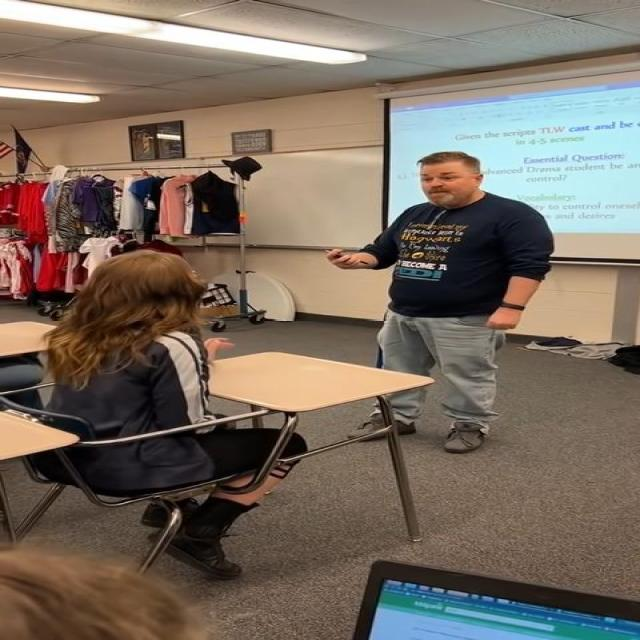NO-Mask: (419, 154, 482, 208)
